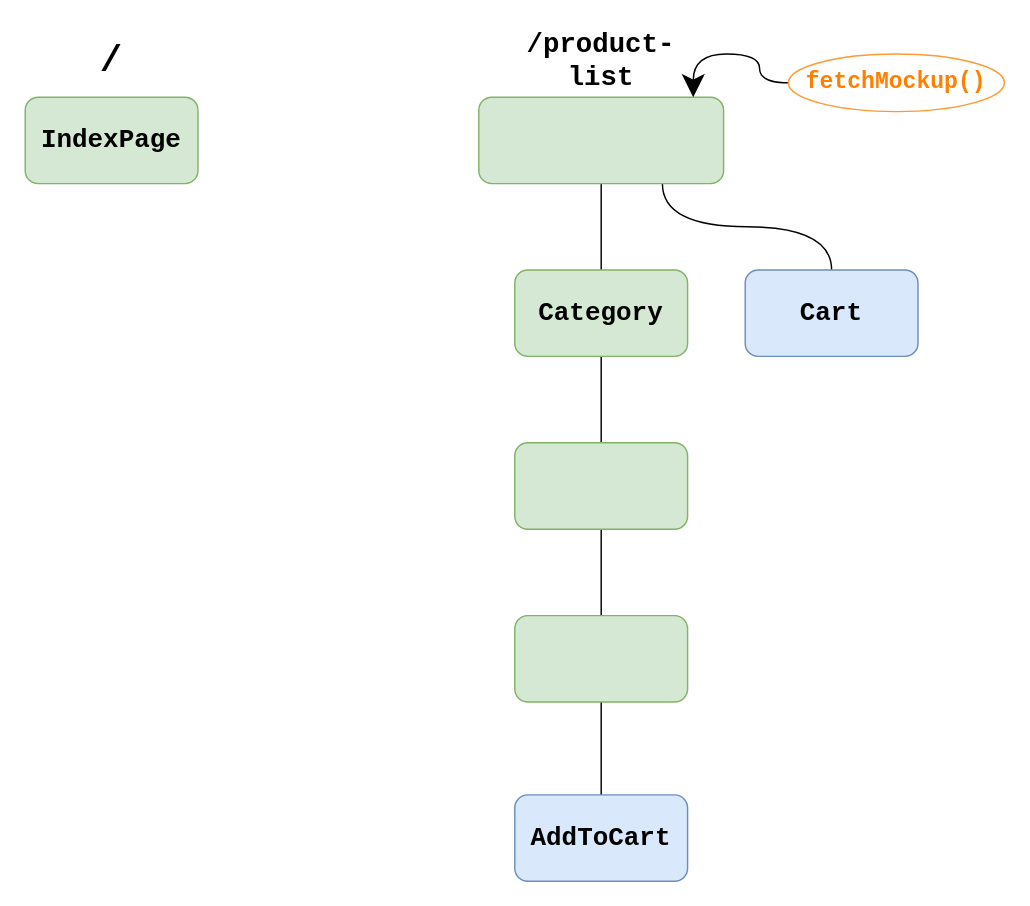
Some shapes in this 1030 by 906 pixel diagram are drawn without their labels. The centre of each missing label's shape, as x and y in pixels:
Meal: (x=600, y=485)
Product: (x=600, y=658)
ProductListPage: (x=600, y=140)
